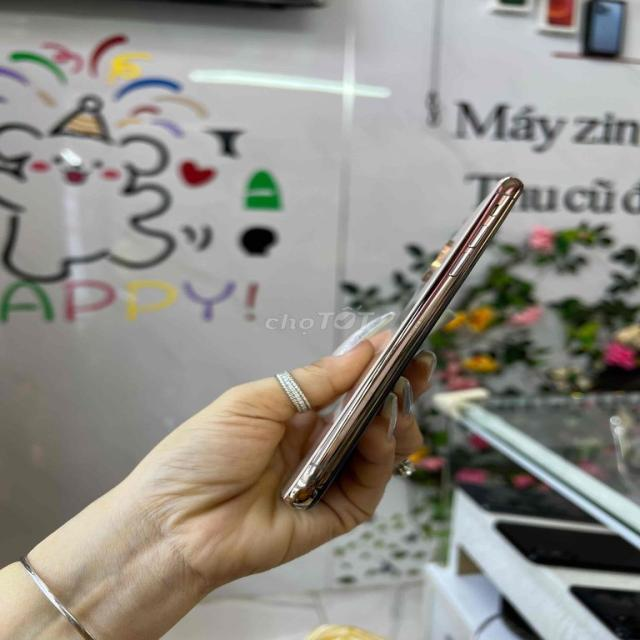gen_x_xs: (276, 175, 530, 512)
